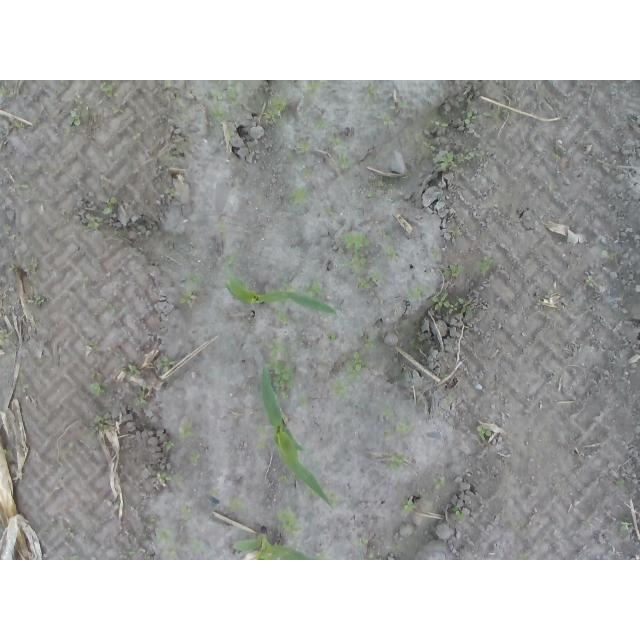Maize: (256, 364, 336, 510), (221, 254, 338, 318), (230, 522, 319, 560)
Weeds: (265, 357, 296, 400), (275, 507, 304, 540), (345, 351, 371, 381), (263, 97, 287, 124), (344, 252, 369, 274), (343, 233, 371, 252), (449, 296, 474, 316), (433, 151, 458, 170), (153, 528, 175, 549), (90, 413, 110, 435), (476, 254, 494, 278), (387, 452, 408, 472), (332, 380, 352, 401), (267, 338, 289, 357), (290, 187, 311, 206), (227, 85, 245, 107), (442, 263, 466, 279), (334, 152, 356, 169), (303, 281, 325, 298), (431, 291, 450, 310), (68, 110, 89, 127), (210, 104, 229, 122), (157, 355, 176, 373), (304, 80, 324, 97), (256, 425, 268, 452), (102, 195, 118, 215), (85, 214, 103, 231), (396, 419, 412, 438), (188, 538, 207, 554), (328, 135, 348, 150), (136, 381, 149, 404), (89, 380, 106, 397), (400, 497, 416, 515), (274, 307, 290, 325), (476, 424, 492, 441), (450, 504, 466, 521), (378, 113, 396, 128), (601, 249, 620, 263), (406, 286, 426, 299), (178, 289, 194, 305), (25, 258, 40, 275), (281, 279, 299, 293), (357, 275, 372, 291), (308, 486, 328, 498), (179, 422, 194, 438), (26, 295, 44, 308), (297, 139, 312, 154), (60, 442, 75, 457), (312, 118, 329, 131), (156, 472, 173, 485), (459, 153, 481, 163), (121, 364, 139, 376), (0, 329, 12, 347), (227, 498, 245, 510), (100, 83, 114, 98), (222, 125, 236, 140), (385, 245, 399, 260), (327, 491, 341, 506), (464, 111, 478, 125), (185, 271, 199, 285), (364, 83, 376, 99), (210, 89, 226, 101), (390, 101, 409, 111), (433, 475, 446, 489), (370, 271, 384, 284), (297, 393, 310, 407), (163, 187, 181, 197), (482, 111, 502, 120), (188, 450, 200, 465), (321, 206, 337, 217), (316, 550, 333, 560), (302, 166, 315, 179), (15, 383, 30, 394), (432, 247, 443, 262), (422, 140, 438, 150), (162, 549, 176, 560), (446, 228, 463, 237), (365, 552, 384, 560), (181, 505, 191, 520), (217, 220, 228, 233), (383, 406, 394, 419), (364, 336, 375, 349), (64, 529, 77, 540), (106, 301, 116, 315), (434, 120, 451, 128), (614, 477, 626, 488), (381, 429, 393, 440), (90, 369, 102, 380), (164, 441, 176, 452), (124, 549, 136, 560), (2, 448, 15, 458), (161, 155, 179, 162), (620, 519, 630, 531), (282, 151, 294, 161), (326, 331, 338, 341), (277, 473, 289, 483), (173, 93, 183, 104), (208, 485, 218, 496), (89, 339, 100, 349), (586, 276, 595, 288), (12, 183, 30, 189), (1, 85, 8, 100), (173, 475, 183, 485), (15, 120, 26, 129), (518, 553, 531, 560), (355, 539, 368, 546), (444, 394, 453, 404), (111, 106, 121, 114), (377, 230, 387, 238), (73, 98, 83, 105), (550, 152, 560, 159), (367, 191, 377, 198), (9, 261, 16, 271), (164, 81, 173, 88), (3, 226, 10, 235), (65, 127, 72, 136), (70, 554, 80, 560), (132, 133, 140, 140), (32, 117, 41, 123), (495, 81, 500, 84)
